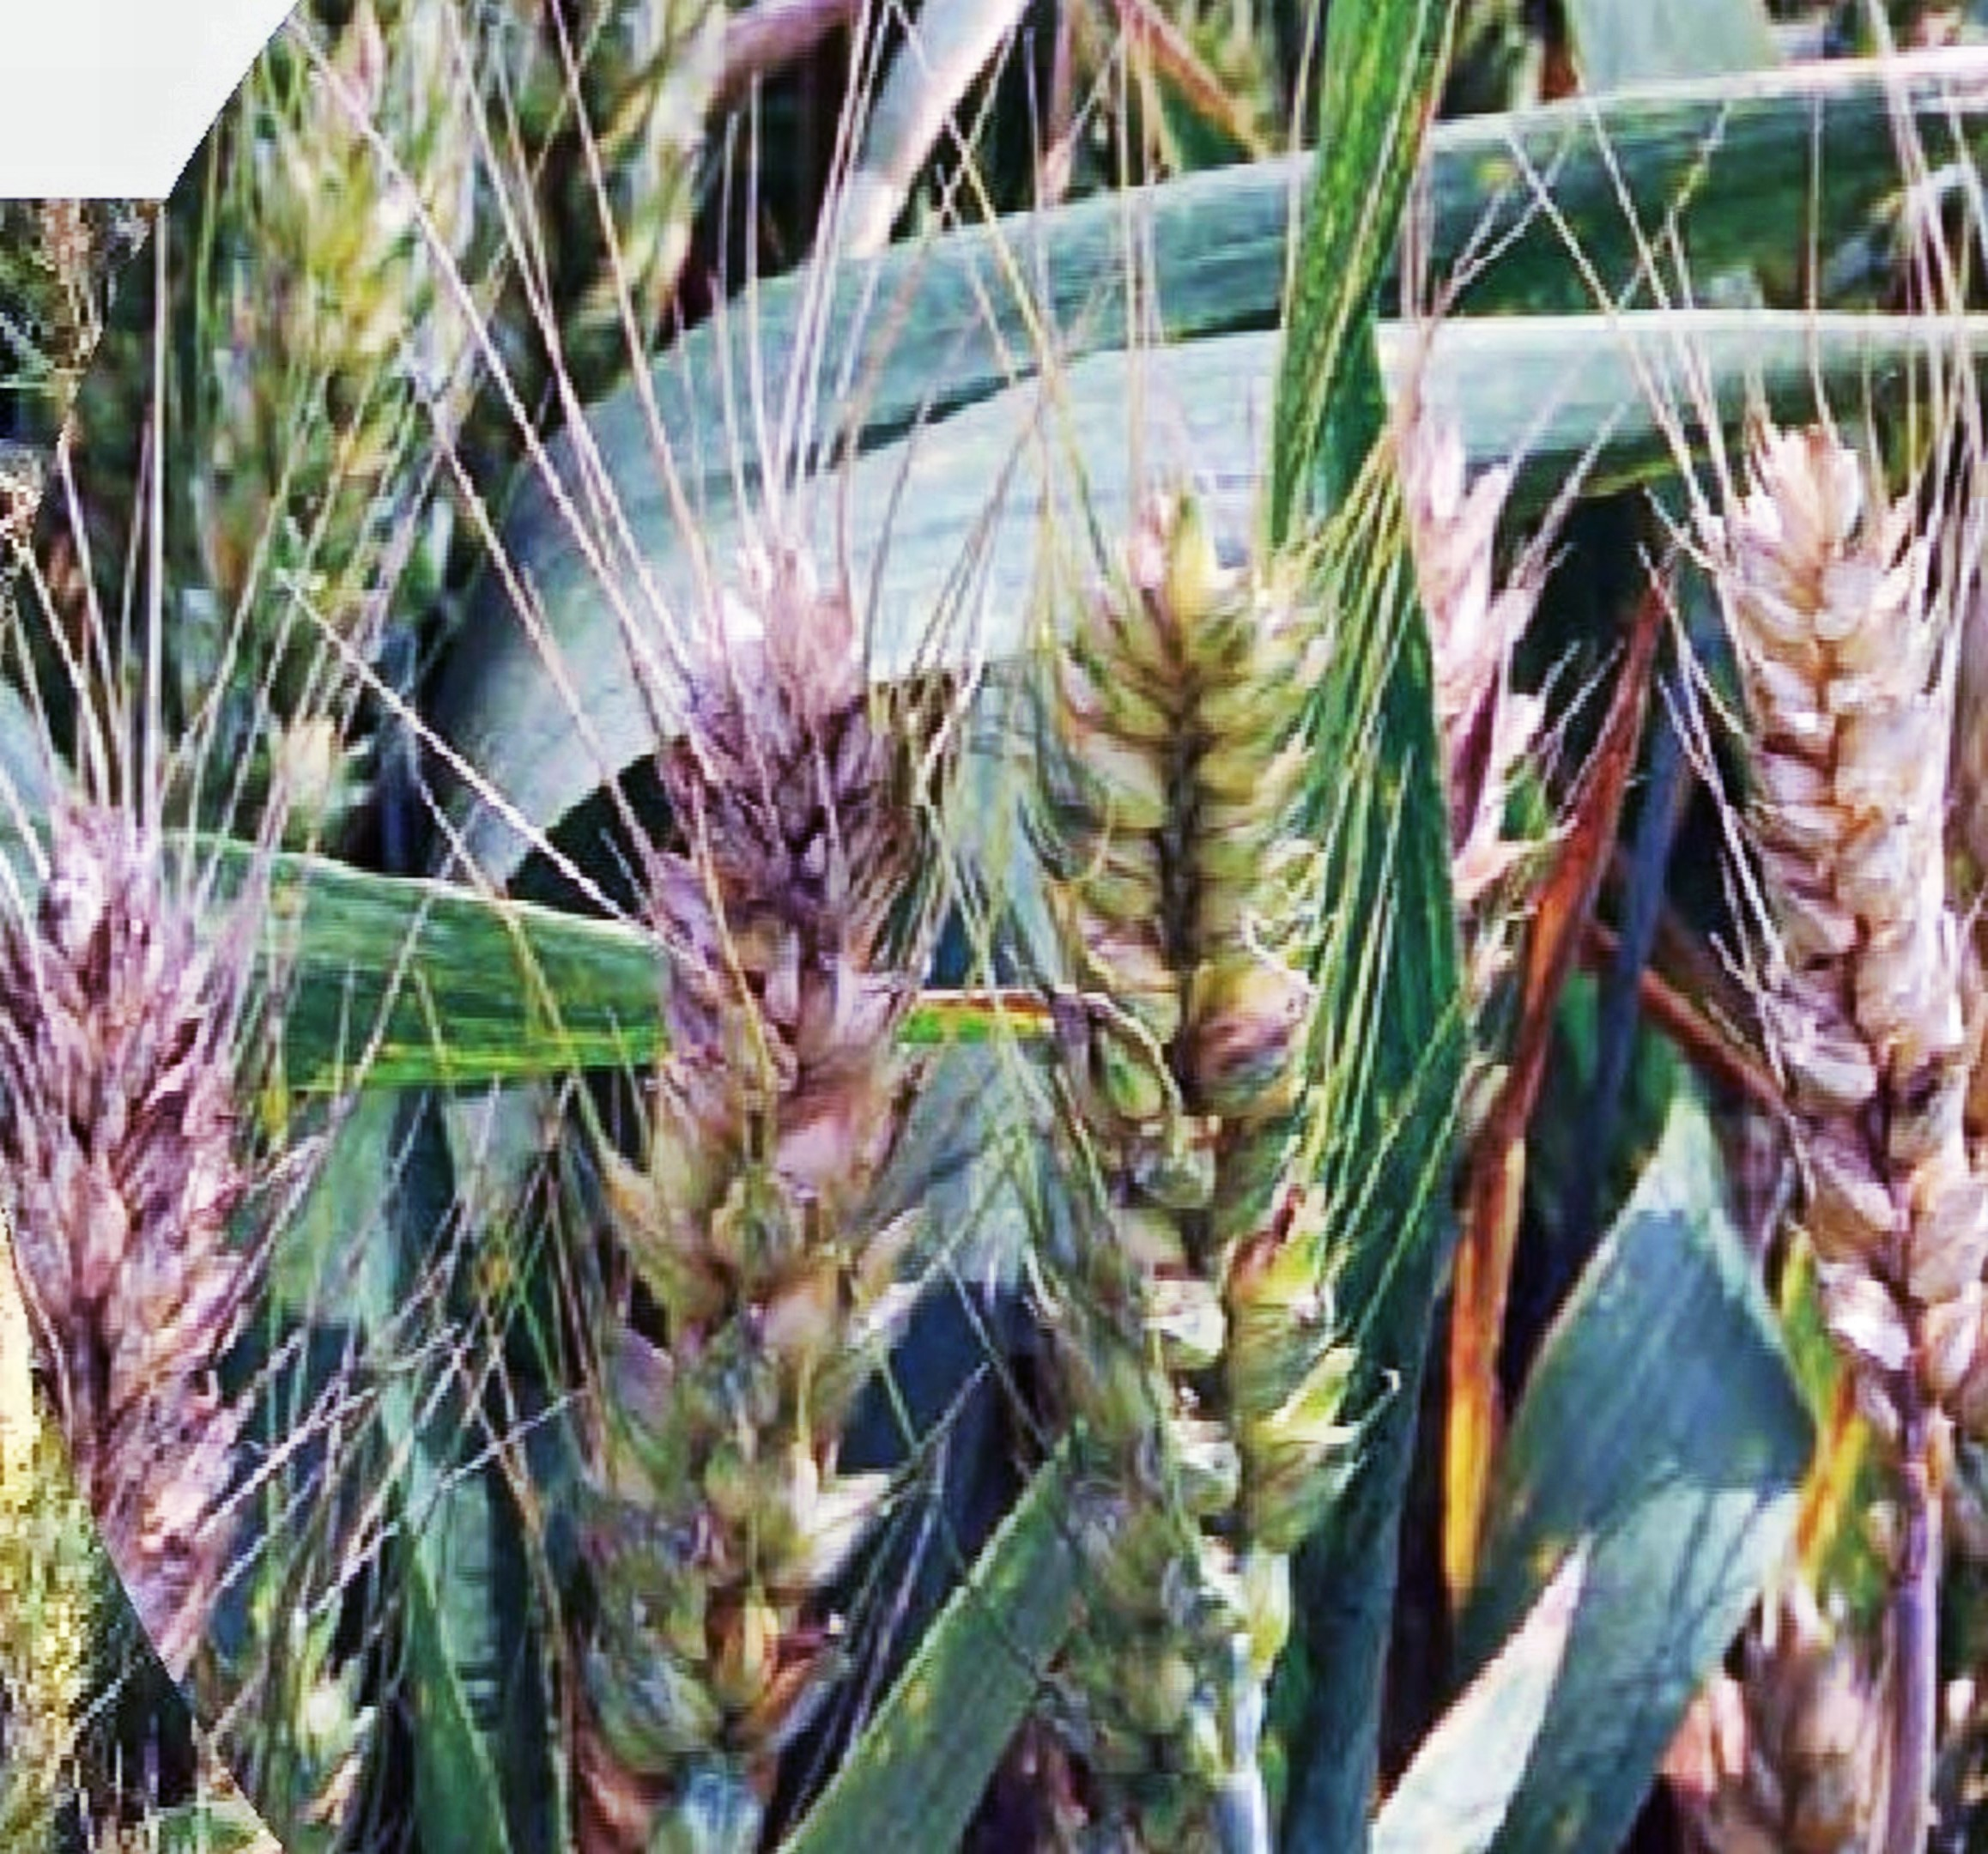Wheat scab: (594, 544, 882, 1763), (1695, 409, 1988, 1488)
